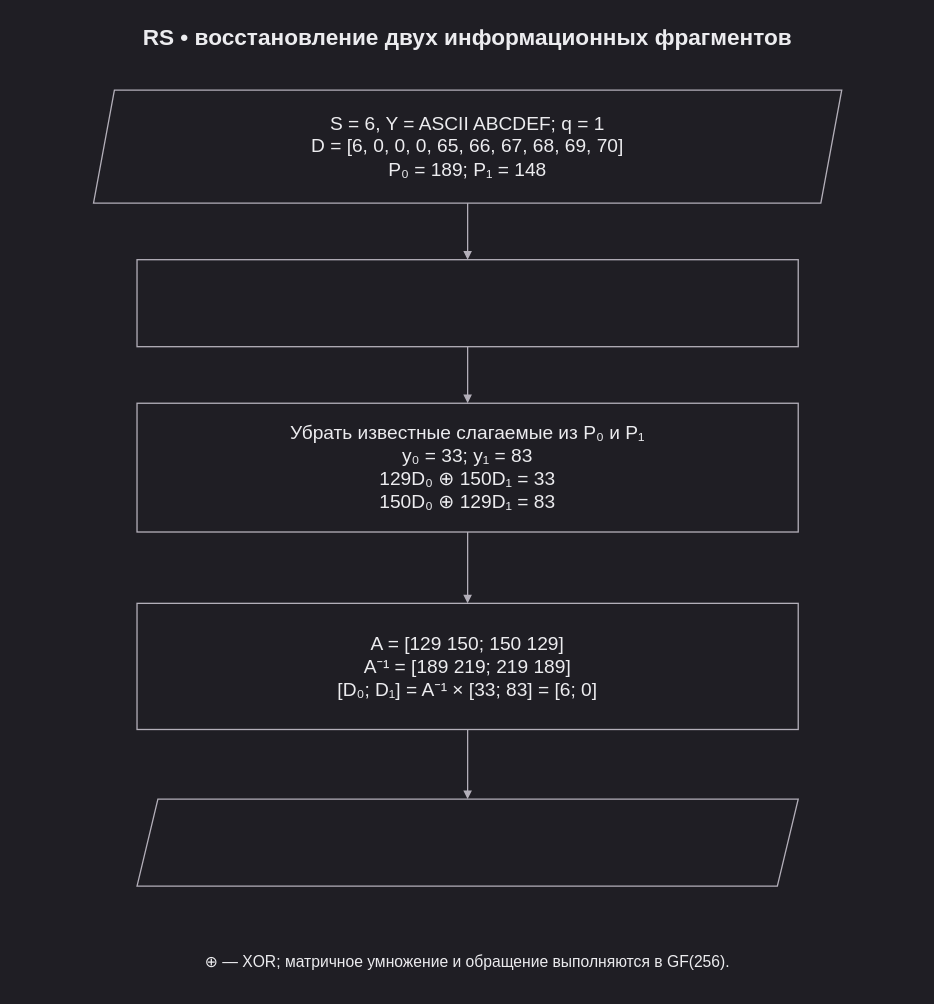
The diagram is 934 pixels wide and 1004 high, and some of its shapes have lost their labels. The centre of each missing label's shape, as x and y in pixels:
CRC обнаружила повреждение D₀ и D₁ Остальные 10 фрагментов исправны: the point at 467,303
Восстановить S = 6 Вернуть ровно ABCDEF, без префикса и заполнения: the point at 467,842
